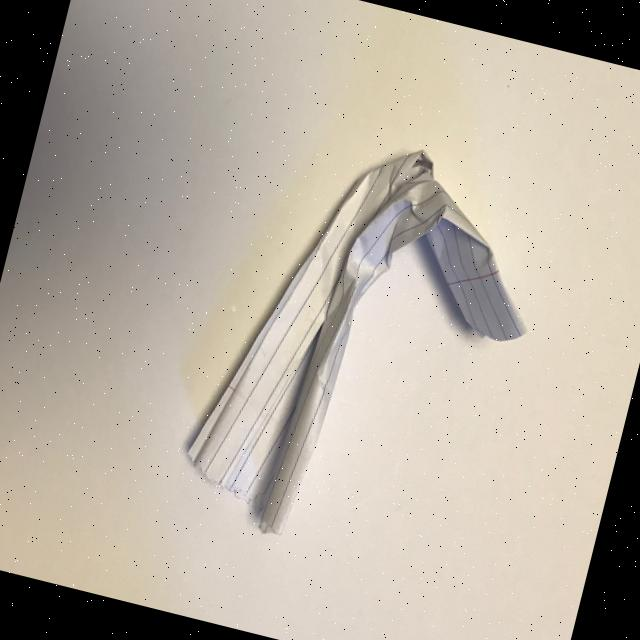paper: (172, 111, 564, 583)
